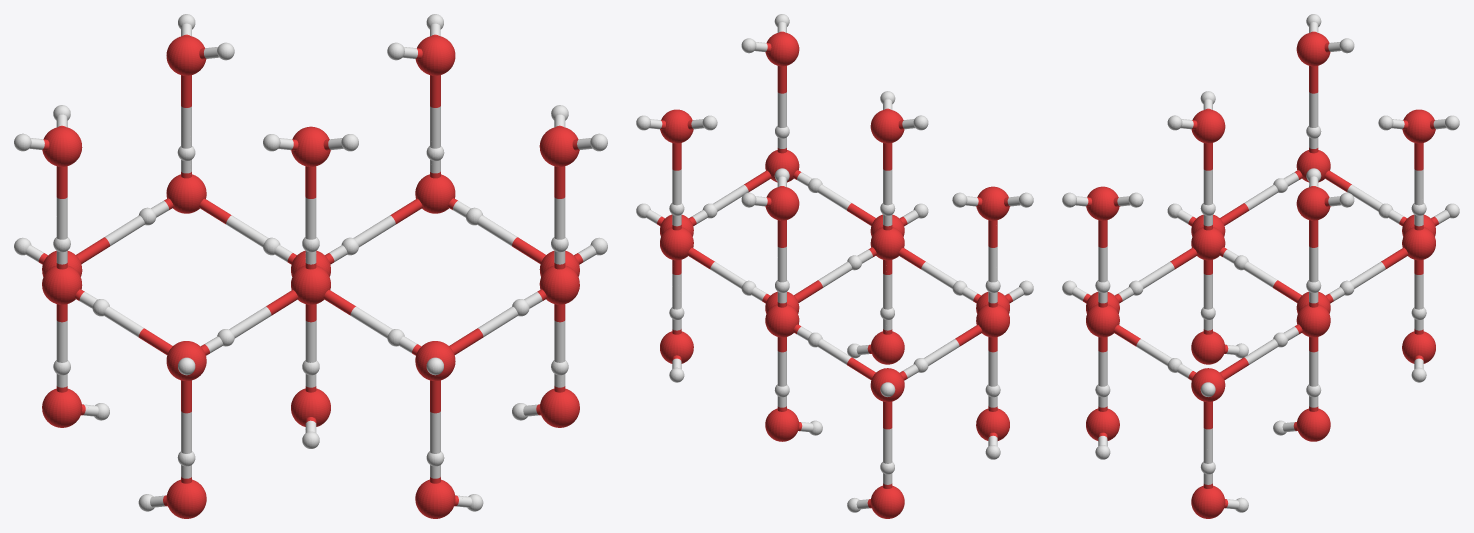
The model's file is water.dae.
3 views of the same model, side by side, from view 1: azimuth 30°, elevation 25°; view 2: azimuth 150°, elevation 25°; view 3: azimuth 270°, elevation 25° (orthographic). The views are drawn at different scales.
Parts seen in each view (by area): view 1: Ball_Oxygen_001, Ball_Oxygen_002, Ball_Oxygen_003, Ball_Oxygen_004, Ball_Oxygen_012, Ball_Oxygen_014, Ball_Oxygen_011, Ball_Oxygen_013, Ball_Oxygen_006, Ball_Oxygen_008, Ball_Oxygen_009, Ball_Oxygen_007 (+5 smaller); view 2: Ball_Oxygen_001, Ball_Oxygen_005, Ball_Oxygen_002, Ball_Oxygen_011, Ball_Oxygen_012, Ball_Oxygen_015, Ball_Oxygen_007, Ball_Oxygen_008, Ball_Oxygen_009, Ball_Oxygen_010, Ball_Oxygen_014, Ball_Oxygen_013 (+4 smaller); view 3: Ball_Oxygen_003, Ball_Oxygen_005, Ball_Oxygen_004, Ball_Oxygen_015, Ball_Oxygen_013, Ball_Oxygen_014, Ball_Oxygen_006, Ball_Oxygen_009, Ball_Oxygen_007, Ball_Oxygen_010, Ball_Oxygen_012, Ball_Oxygen_011 (+4 smaller).
Boxes of the visible parts, x1=… form: Ball_Oxygen_001: x1=415, y1=479, x2=455, y2=518; Ball_Oxygen_002: x1=42, y1=388, x2=82, y2=427; Ball_Oxygen_003: x1=166, y1=479, x2=206, y2=518; Ball_Oxygen_004: x1=539, y1=388, x2=579, y2=427; Ball_Oxygen_012: x1=166, y1=35, x2=206, y2=75; Ball_Oxygen_014: x1=415, y1=35, x2=455, y2=75; Ball_Oxygen_011: x1=539, y1=126, x2=579, y2=166; Ball_Oxygen_013: x1=42, y1=126, x2=82, y2=166; Ball_Oxygen_006: x1=539, y1=265, x2=579, y2=304; Ball_Oxygen_008: x1=42, y1=265, x2=82, y2=304; Ball_Oxygen_009: x1=415, y1=174, x2=455, y2=213; Ball_Oxygen_007: x1=166, y1=174, x2=206, y2=213; Ball_Oxygen_001: x1=870, y1=331, x2=904, y2=364; Ball_Oxygen_005: x1=765, y1=408, x2=799, y2=441; Ball_Oxygen_002: x1=870, y1=485, x2=904, y2=518; Ball_Oxygen_011: x1=765, y1=32, x2=799, y2=66; Ball_Oxygen_012: x1=765, y1=186, x2=799, y2=220; Ball_Oxygen_015: x1=870, y1=109, x2=904, y2=143; Ball_Oxygen_007: x1=765, y1=304, x2=799, y2=337; Ball_Oxygen_008: x1=976, y1=304, x2=1009, y2=337; Ball_Oxygen_009: x1=660, y1=227, x2=693, y2=260; Ball_Oxygen_010: x1=870, y1=227, x2=904, y2=260; Ball_Oxygen_014: x1=660, y1=109, x2=693, y2=143; Ball_Oxygen_013: x1=976, y1=186, x2=1009, y2=220; Ball_Oxygen_003: x1=1191, y1=331, x2=1225, y2=364; Ball_Oxygen_005: x1=1296, y1=408, x2=1330, y2=441; Ball_Oxygen_004: x1=1191, y1=485, x2=1225, y2=518; Ball_Oxygen_015: x1=1191, y1=109, x2=1225, y2=143; Ball_Oxygen_013: x1=1296, y1=32, x2=1330, y2=66; Ball_Oxygen_014: x1=1296, y1=186, x2=1330, y2=220; Ball_Oxygen_006: x1=1086, y1=304, x2=1119, y2=337; Ball_Oxygen_009: x1=1296, y1=304, x2=1330, y2=337; Ball_Oxygen_007: x1=1402, y1=227, x2=1435, y2=260; Ball_Oxygen_010: x1=1191, y1=227, x2=1225, y2=260; Ball_Oxygen_012: x1=1402, y1=109, x2=1435, y2=143; Ball_Oxygen_011: x1=1086, y1=186, x2=1119, y2=220.
Bounding box in the file's own units: 11.09 × 8.51 × 7.3.
